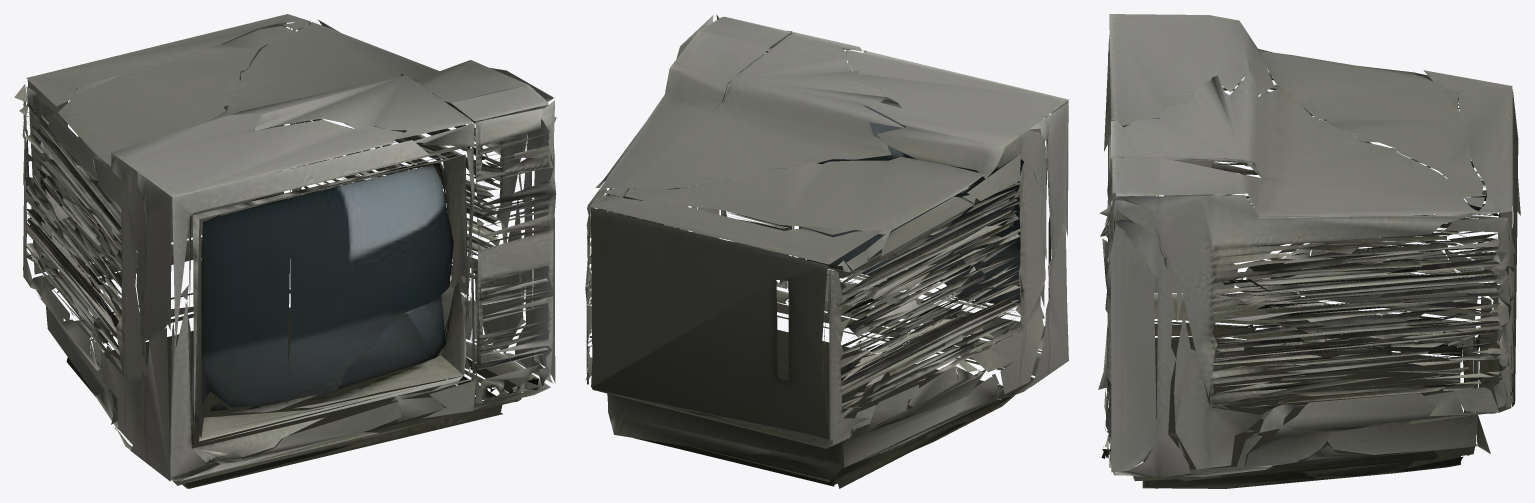
The picture shows the model from 3 angles, left to right: view 1: azimuth 30°, elevation 25°; view 2: azimuth 150°, elevation 25°; view 3: azimuth 270°, elevation 25°; orthographic projection. The views are drawn at different scales.
Visible parts, largest first — view 1: node_0; view 2: node_0; view 3: node_0.
Boxes of the visible parts, x1=… form: node_0: x1=14, y1=14, x2=556, y2=488; node_0: x1=585, y1=14, x2=1069, y2=488; node_0: x1=1098, y1=14, x2=1520, y2=488.
Bounding box in the file's own units: 1.31 × 1.03 × 1.24.
Materials: 1 (1 with a texture image).
